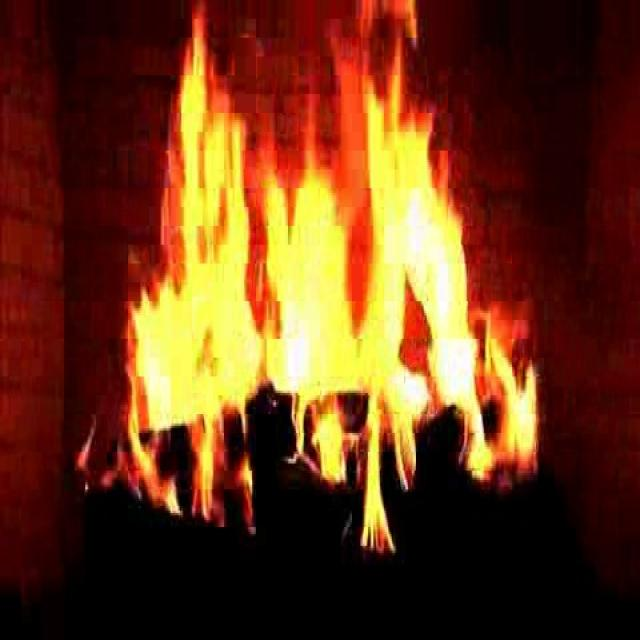fire: (128, 18, 511, 520)
